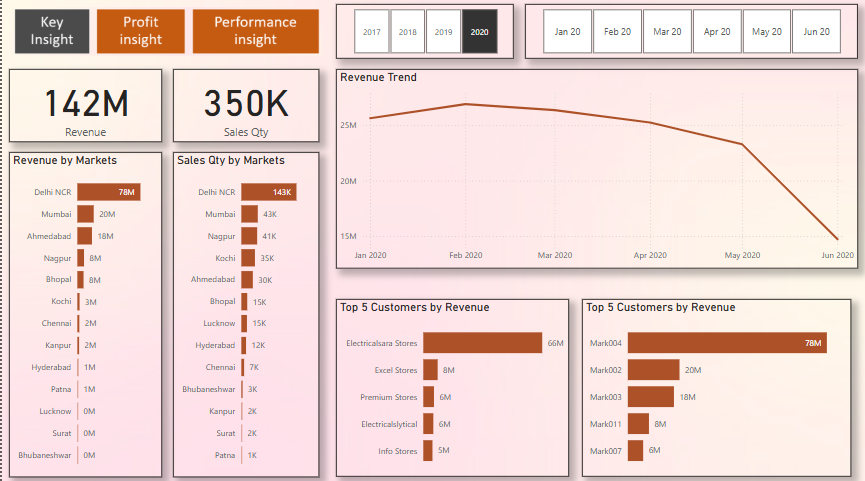

This screenshot's page, from the dashboard's own definition file:
{"tool":"powerbi","page":{"name":"Key Insights","canvas":[1280,720],"ordinal":0},"visuals":[{"type":"card","fields":{"Values":["BaseMeasure.Revenue"]},"box":[10.2,109.8,223.9,106.8],"z":0},{"type":"card","fields":{"Values":["BaseMeasure.Sales Qty"]},"box":[250.2,109.8,213.7,106.8],"z":1000},{"type":"clusteredBarChart","title":"Revenue by Markets","fields":{"Y":["BaseMeasure.Revenue"],"Category":["sales markets.markets_name"]},"box":[10.2,231.2,223.9,475.6],"z":2000},{"type":"clusteredBarChart","title":"Sales Qty by Markets","fields":{"Y":["BaseMeasure.Sales Qty"],"Category":["sales markets.markets_name"]},"box":[250.2,231.2,213.7,475.6],"z":3000},{"type":"slicer","fields":{"Values":["sales date.date.Variation.Date Hierarchy.Year"]},"box":[488.8,14.6,260.5,80.5],"z":4000},{"type":"slicer","fields":{"Values":["sales date.cy_date"]},"box":[765.4,14.6,487.3,80.5],"z":5000},{"type":"clusteredBarChart","title":"Top 5 Customers by Revenue","fields":{"Y":["BaseMeasure.Revenue"],"Category":["sales customers.custmer_name"]},"box":[488.8,446.3,341,260.5],"z":6000},{"type":"clusteredBarChart","title":"Top 5 Customers by Revenue","fields":{"Y":["BaseMeasure.Revenue"],"Category":["sales markets.markets_code"]},"box":[848.8,446.3,393.7,260.5],"z":7000},{"type":"lineChart","title":"Revenue Trend","fields":{"Y":["BaseMeasure.Revenue"],"Category":["sales date.cy_date"]},"box":[488.9,109.7,763.9,291.7],"z":8000},{"type":"image","box":[10.2,0,463.9,109.8],"z":9000},{"type":"actionButton","box":[142,26.3,122.9,55.6],"z":10000},{"type":"actionButton","box":[279.5,26.3,184.4,55.6],"z":11000}]}

Visuals, with their boxes in screenshot pixels (x1, y1, x2, y2), scaled from the page's 1280x720 canvas onto the 865x481 screenshot:
card - BaseMeasure.Revenue: [7, 73, 158, 145]
card - BaseMeasure.Sales Qty: [169, 73, 313, 145]
"Revenue by Markets" clusteredBarChart: [7, 154, 158, 472]
"Sales Qty by Markets" clusteredBarChart: [169, 154, 313, 472]
slicer - sales date.date.Variation.Date Hierarchy.Year: [330, 10, 506, 64]
slicer - sales date.cy_date: [517, 10, 847, 64]
"Top 5 Customers by Revenue" clusteredBarChart: [330, 298, 561, 472]
"Top 5 Customers by Revenue" clusteredBarChart: [574, 298, 840, 472]
"Revenue Trend" lineChart: [330, 73, 847, 268]
image: [7, 0, 320, 73]
actionButton: [96, 18, 179, 55]
actionButton: [189, 18, 313, 55]
